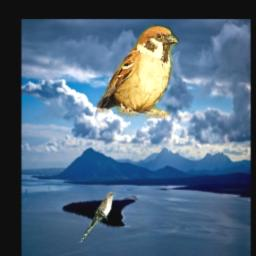Cuckoo: (79, 192, 116, 245)
Sparrow: (97, 24, 179, 118)
